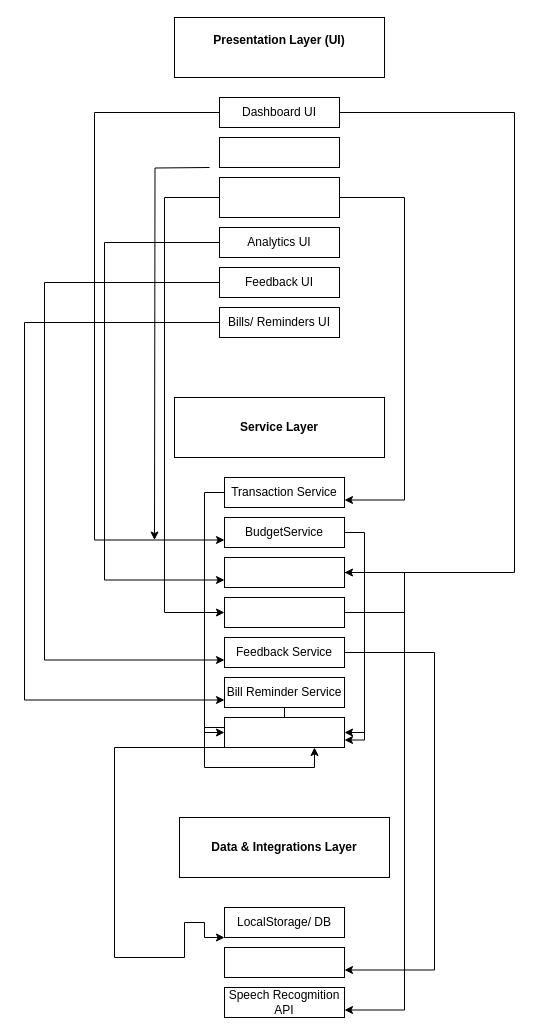
Some shapes in this 540 by 1036 pixel diagram are drawn without their labels. The shapes that lost their labels are listed below. From the top down, each one's box as (x1, y1, x2, y2) in pixels, then its label:
(218, 136, 340, 168): Budget Setup UI
(218, 176, 340, 218): Transactions UI +(voice)
(224, 556, 344, 588): Analytics Service
(224, 596, 344, 628): VoiceInput Service
(224, 716, 344, 748): Storage Service
(224, 946, 344, 978): EmailJS API
